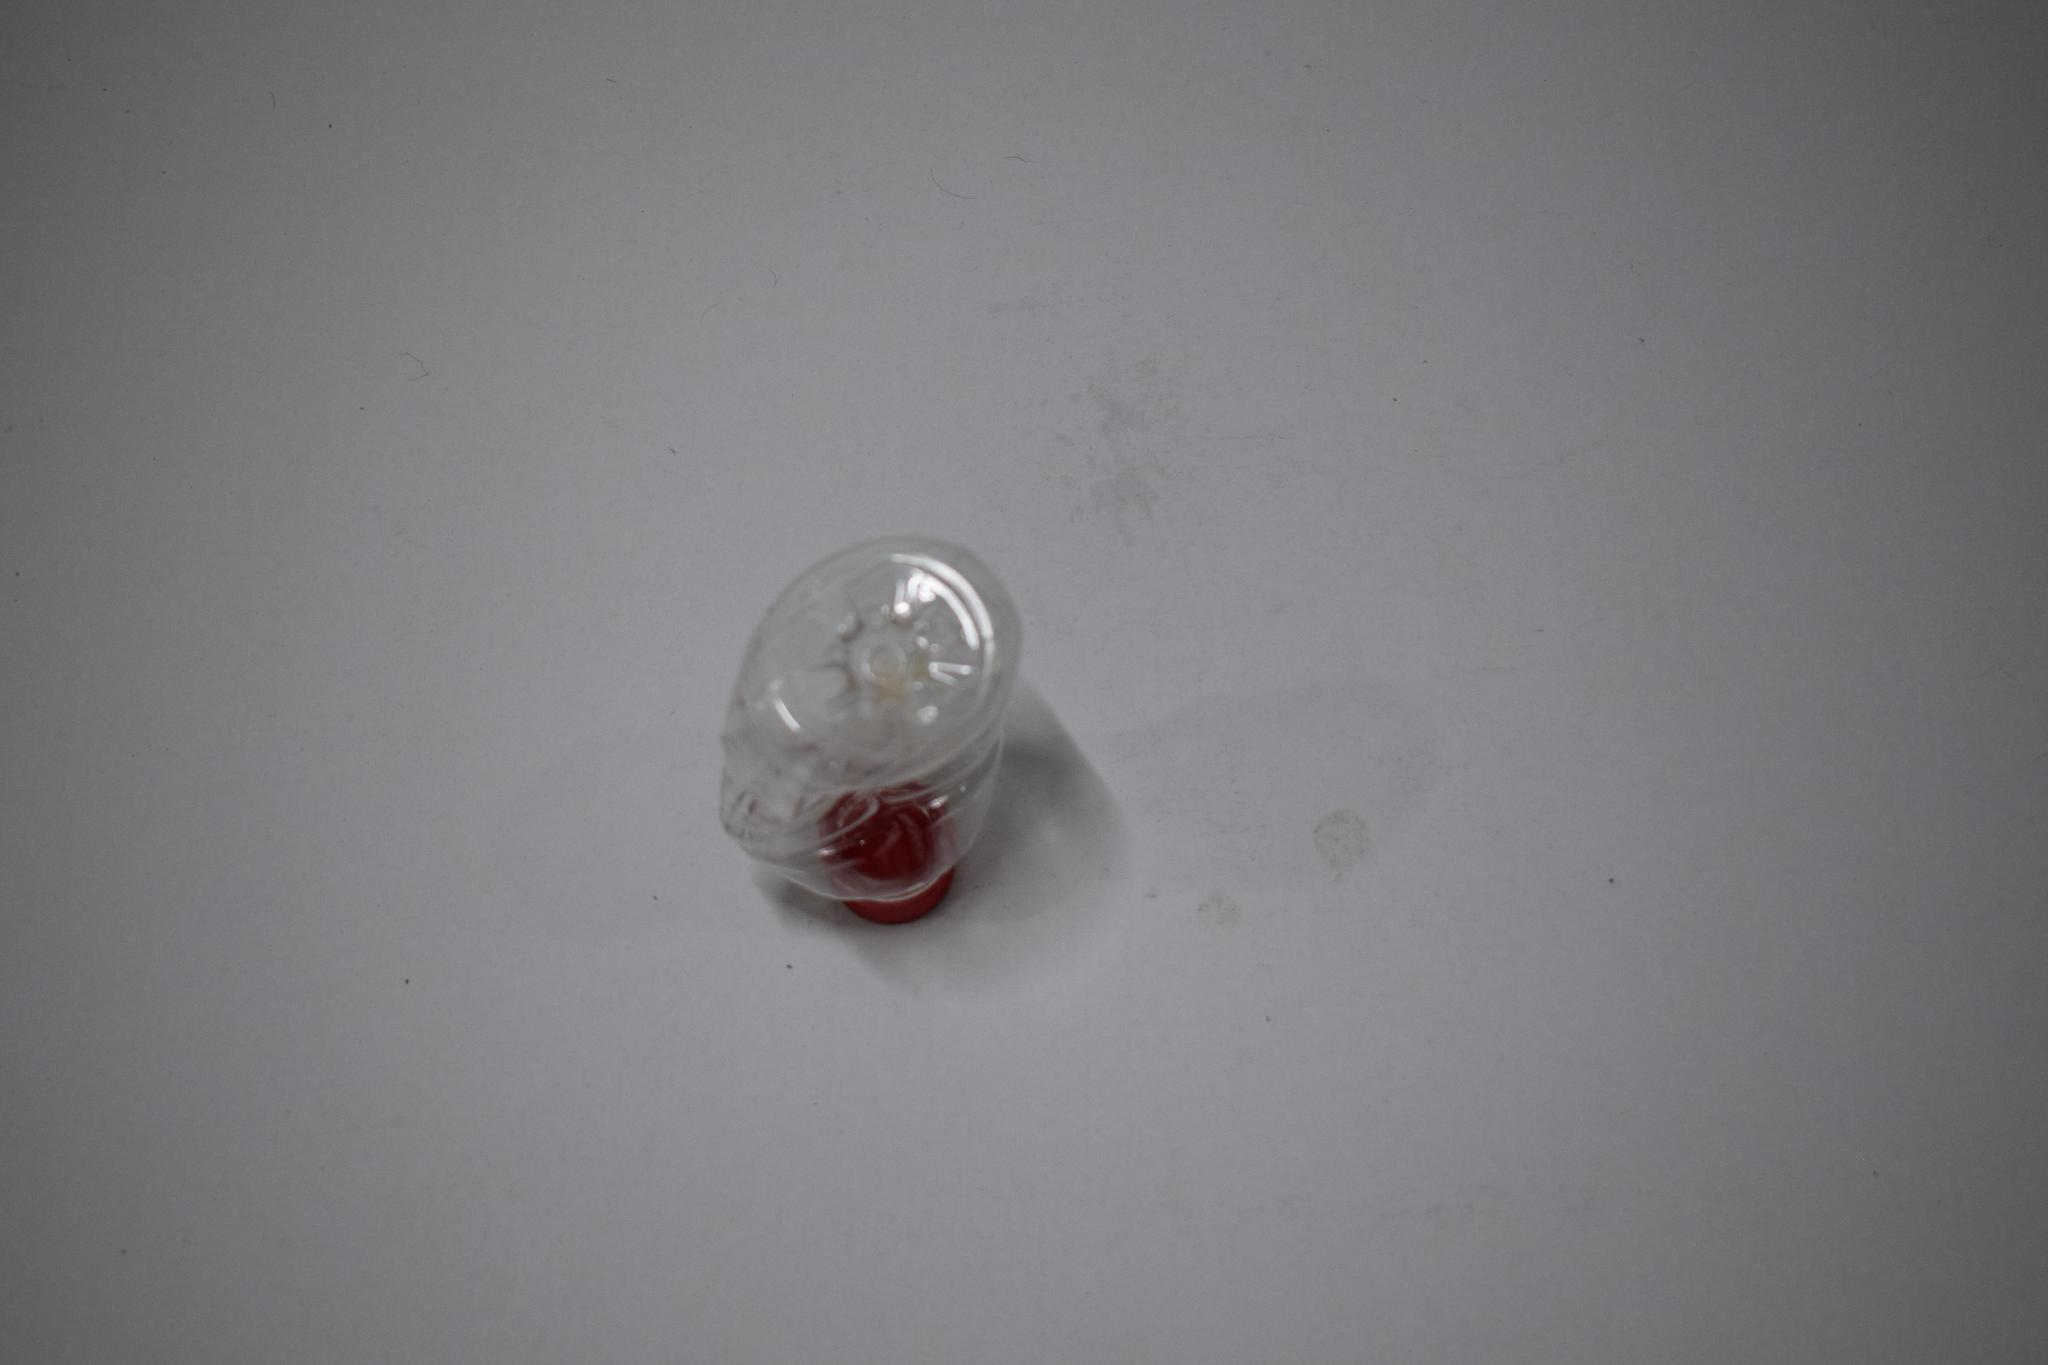bottle: (694, 521, 1031, 946)
